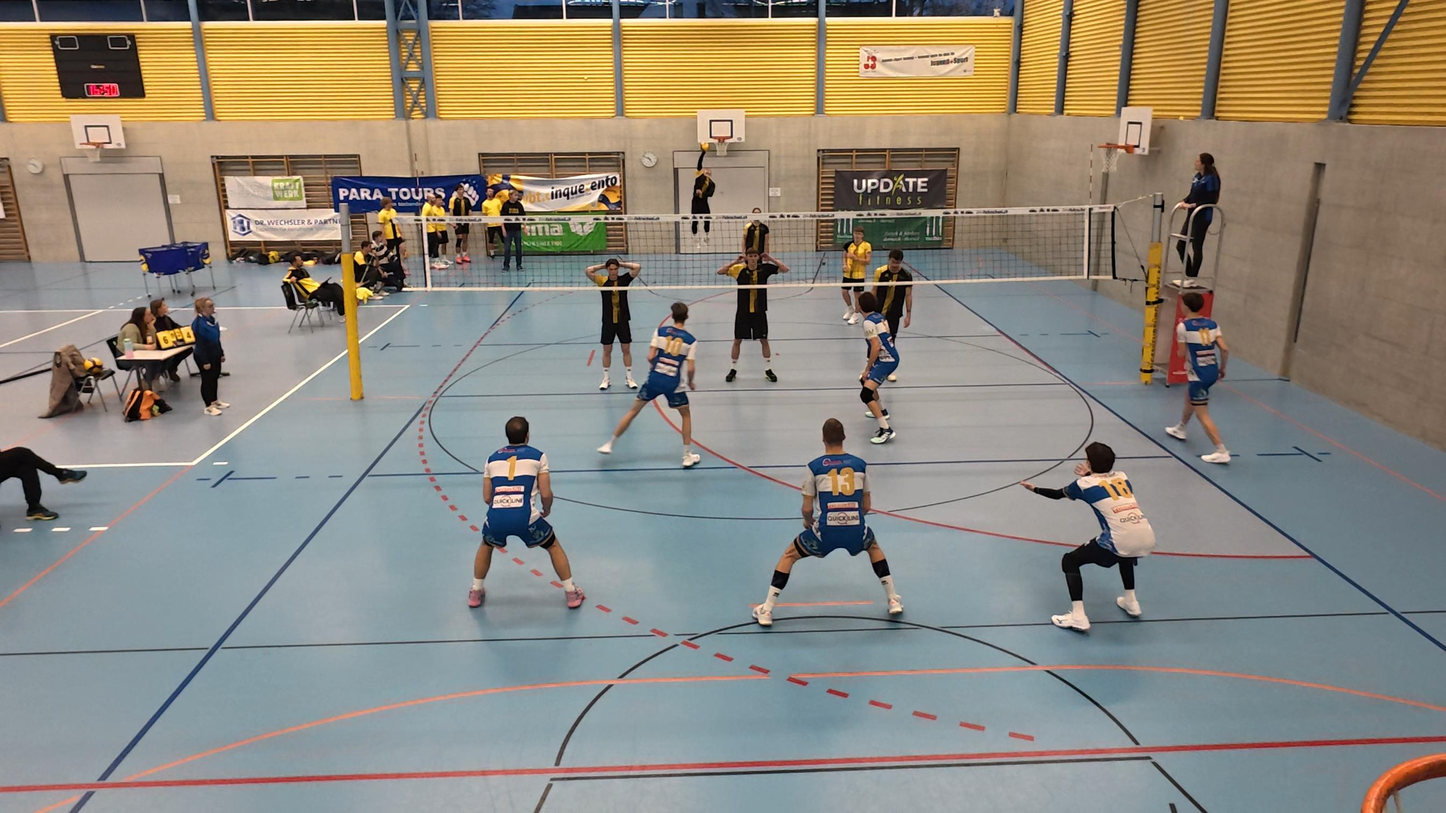Player: (753, 418, 904, 626), (1026, 443, 1152, 632), (469, 417, 585, 609), (598, 306, 702, 468), (1166, 288, 1231, 465), (722, 243, 781, 383), (587, 256, 641, 392), (857, 308, 901, 443), (865, 249, 915, 367), (832, 218, 867, 309), (735, 203, 773, 259)
Serve: (682, 141, 722, 248)
ball: (697, 137, 712, 154)
